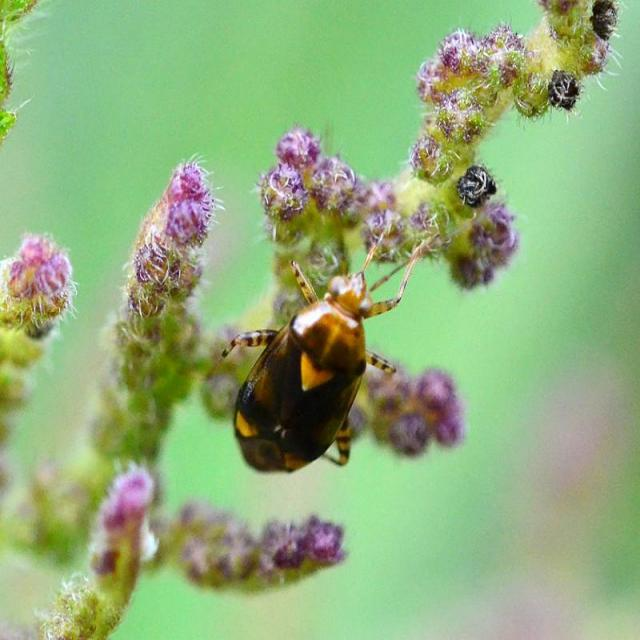Miridae-Adult-: (222, 213, 429, 488)
